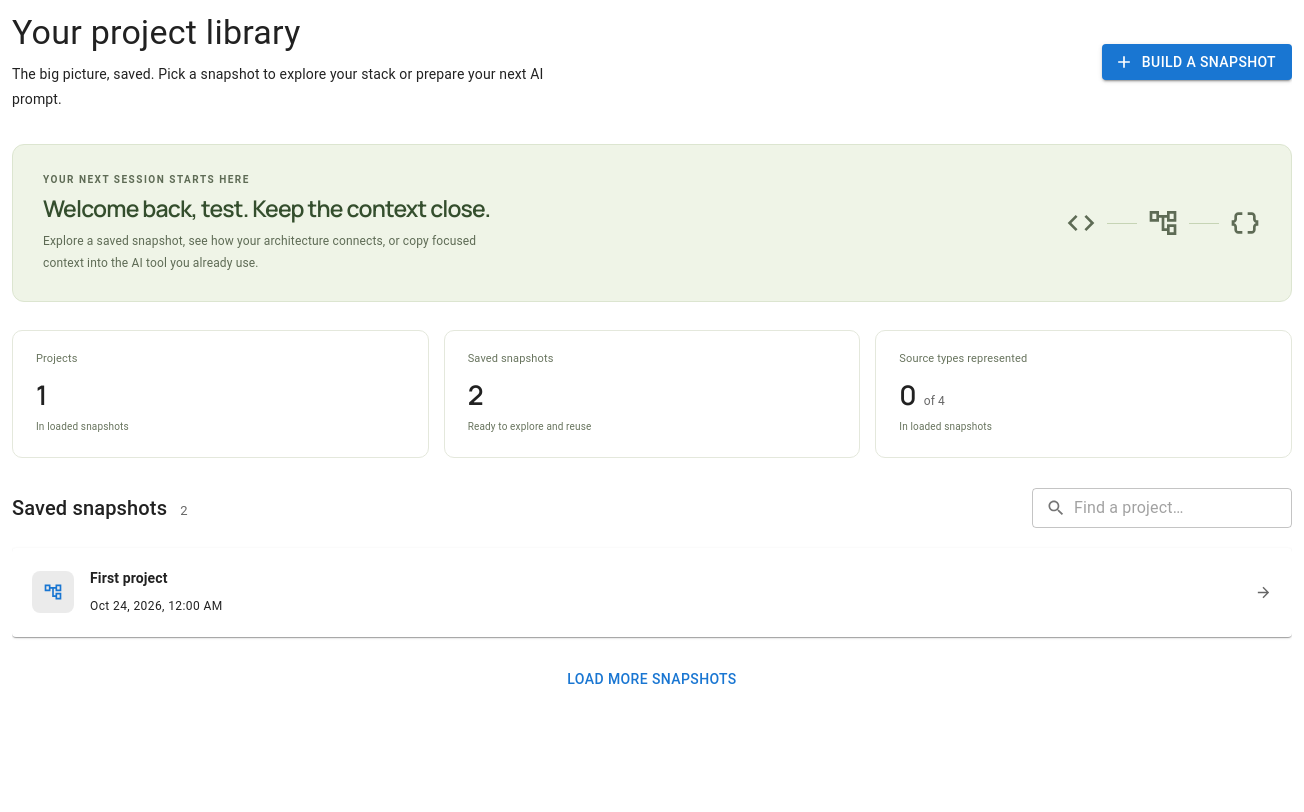
it: loads a bounded first page and appends more snapshots
The width and height of the screenshot is (1304, 812).
Expected: the text "First project" is shown, 90,570 -> 168,586
Step 1. Click the button "Load more snapshots" → (652,679), box 559,661 -> 745,697
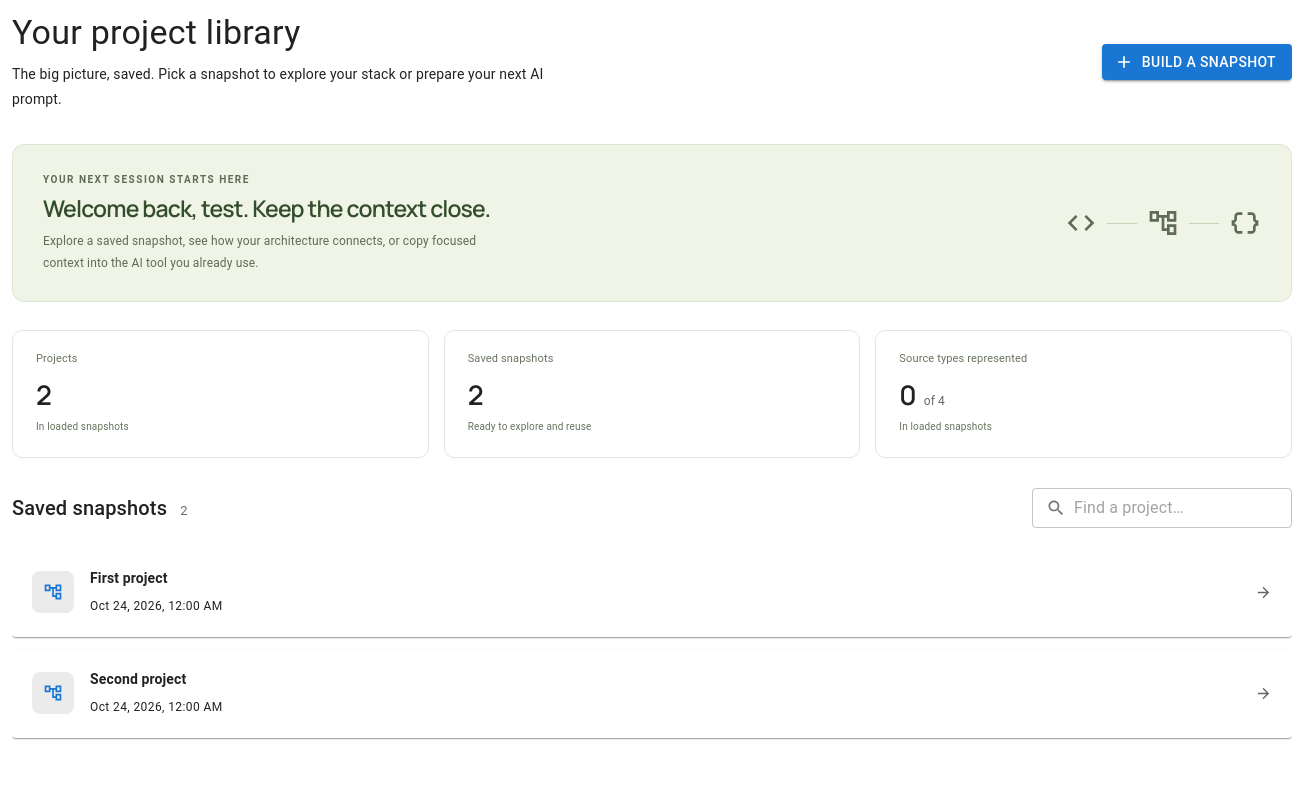
Expected: the text "First project" is shown, 90,570 -> 168,586
Expected: the text "Second project" is shown, 90,671 -> 186,687
Expected: the button "Load more snapshots" is gone
